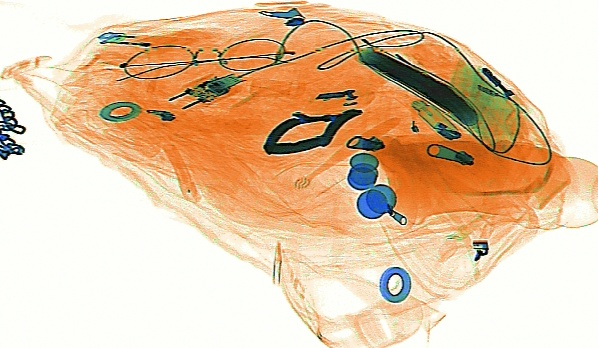lighter: (94, 28, 199, 51)
